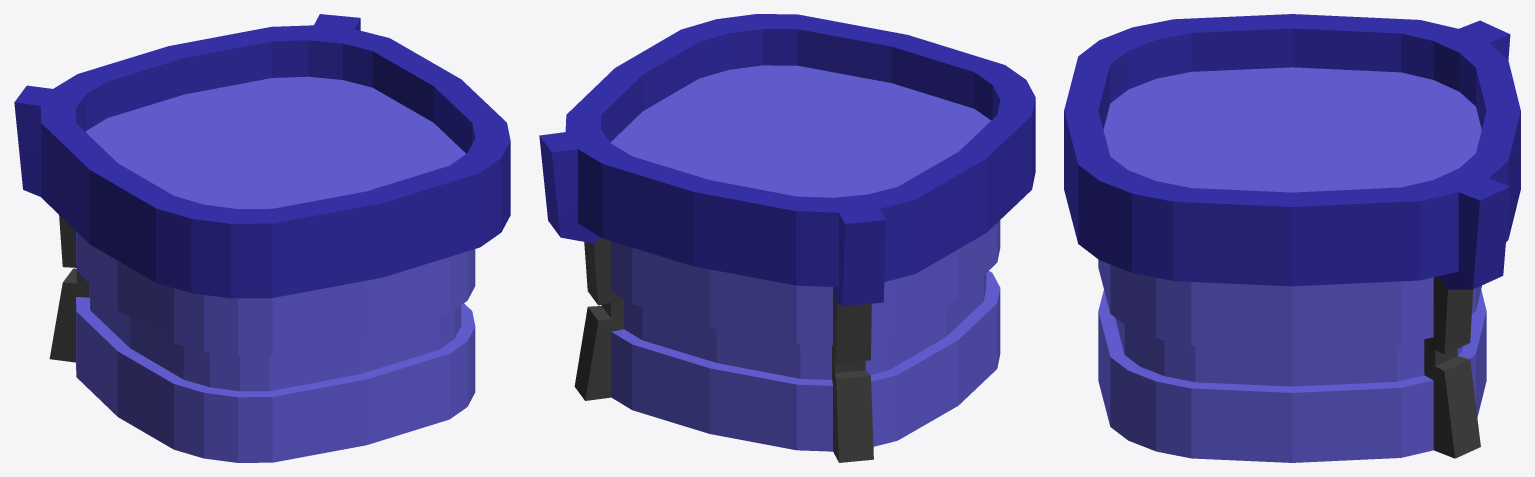
File: Package_Start_2.fbx
The picture shows the model from 3 angles, left to right: view 1: azimuth 30°, elevation 25°; view 2: azimuth 150°, elevation 25°; view 3: azimuth 270°, elevation 25°; orthographic projection. The views are drawn at different scales.
Visible parts, largest first — view 1: pCylinder24; view 2: pCylinder24; view 3: pCylinder24.
Boxes of the visible parts, x1,y1,x2,y2 form: pCylinder24: (14,14,510,462); pCylinder24: (539,14,1035,462); pCylinder24: (1064,14,1520,462).
Bounding box in the file's own units: 2.25 × 1.47 × 2.25.
